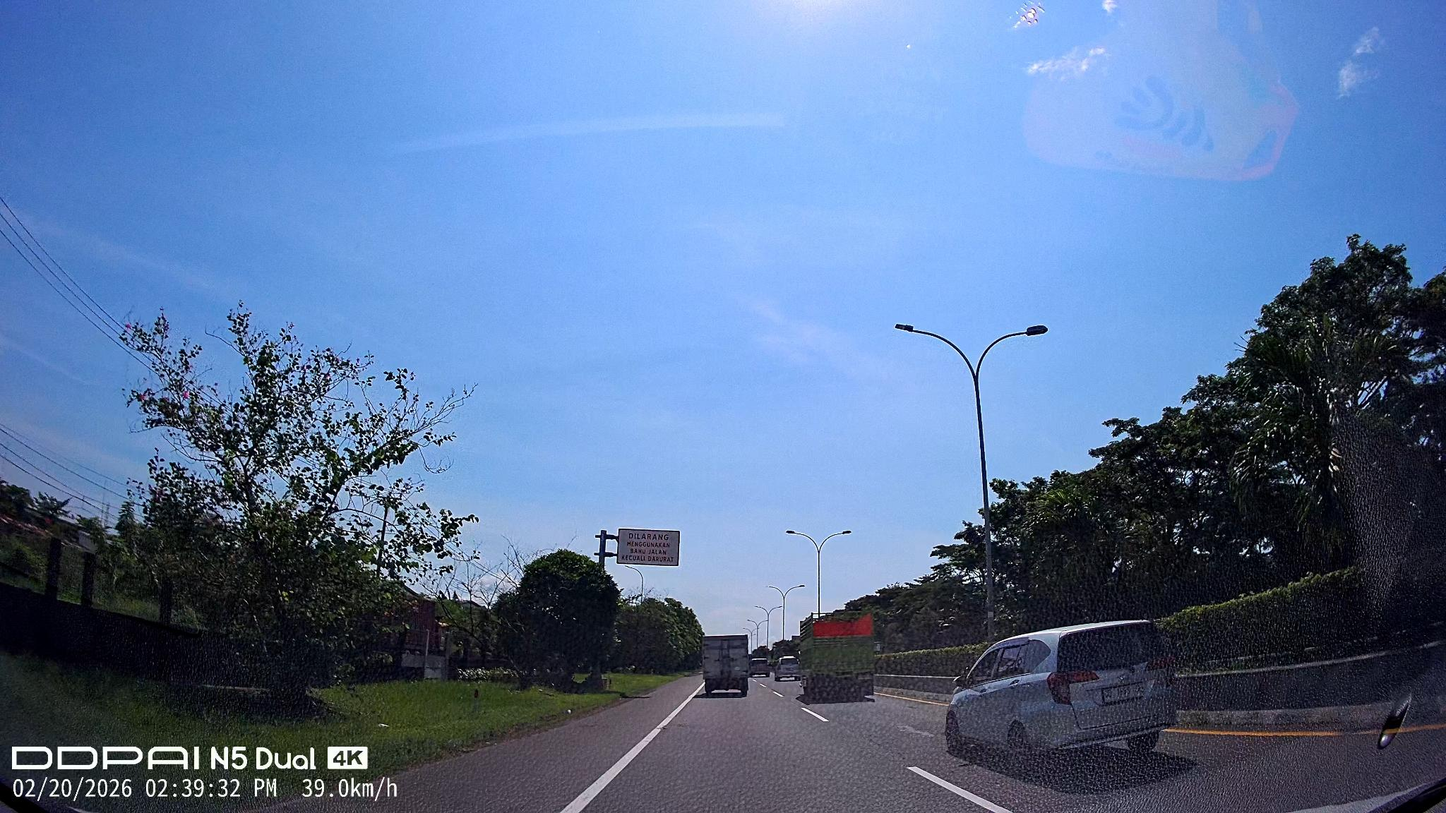rambu_teks: (617, 527, 681, 568)
